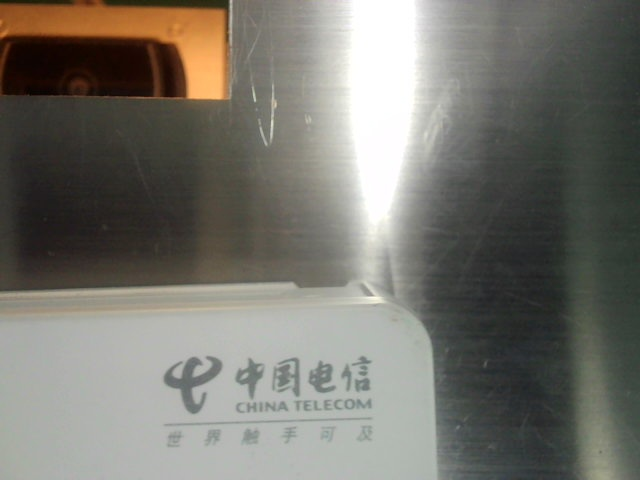AB_ChinaTelecom: (152, 344, 391, 452)
